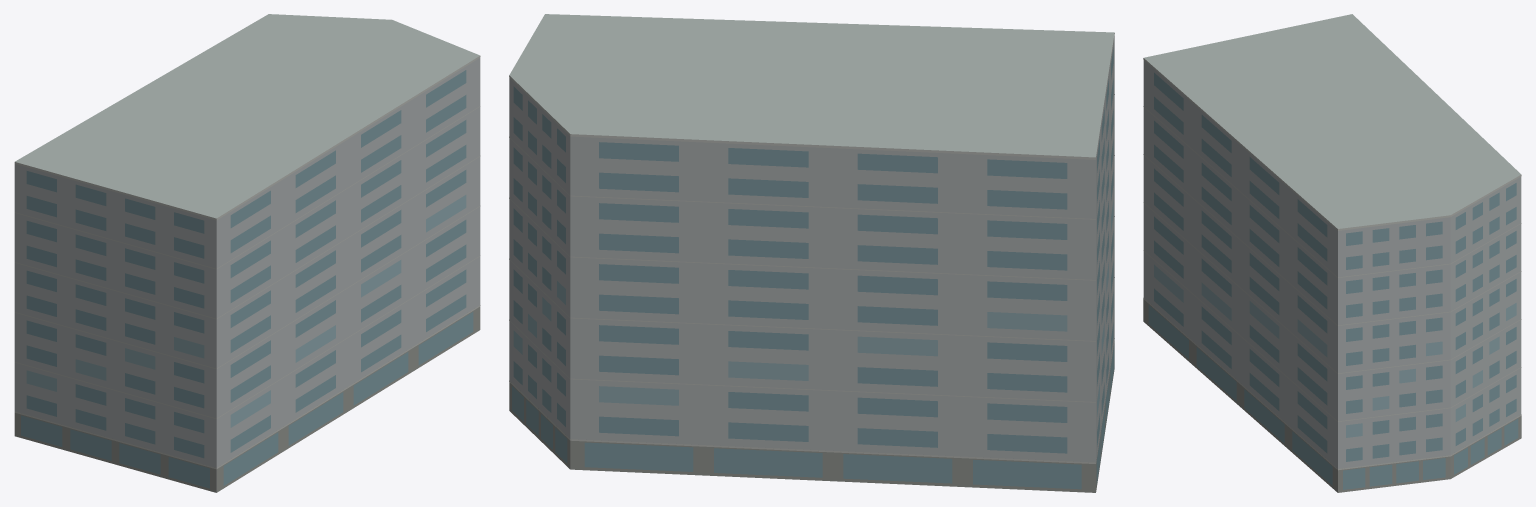
The model's file is residential-b92162e0-f06d-430c-9813-7712a983fb60.glb.
3 views of the same model, side by side, from view 1: azimuth 30°, elevation 25°; view 2: azimuth 150°, elevation 25°; view 3: azimuth 270°, elevation 25° (orthographic). The views are drawn at different scales.
Parts seen in each view (by area): view 1: residential-b92162e0-f06d-430c-9813-7712a983fb60.tmp; view 2: residential-b92162e0-f06d-430c-9813-7712a983fb60.tmp; view 3: residential-b92162e0-f06d-430c-9813-7712a983fb60.tmp.
Boxes of the visible parts, x1,y1,x2,y2 form: residential-b92162e0-f06d-430c-9813-7712a983fb60.tmp: (14, 14, 480, 492); residential-b92162e0-f06d-430c-9813-7712a983fb60.tmp: (509, 14, 1114, 492); residential-b92162e0-f06d-430c-9813-7712a983fb60.tmp: (1143, 14, 1521, 492).
Size of the model in its own units: 57.69 by 33 by 42.86.
